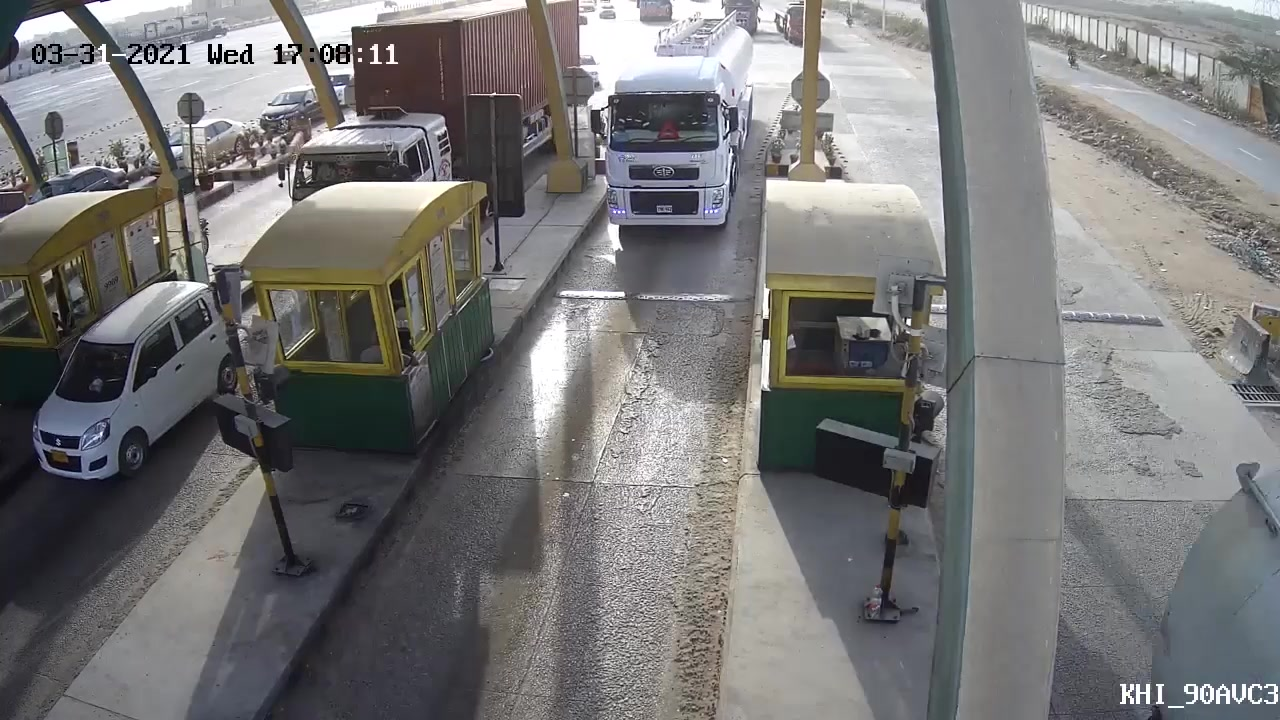F6: (585, 8, 762, 244)
